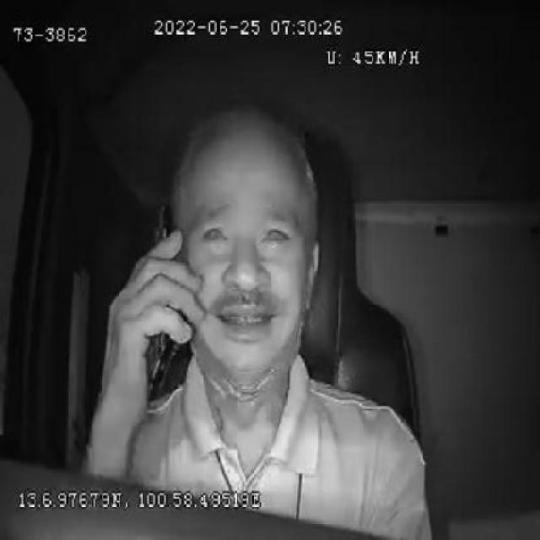phone: (134, 204, 188, 406)
